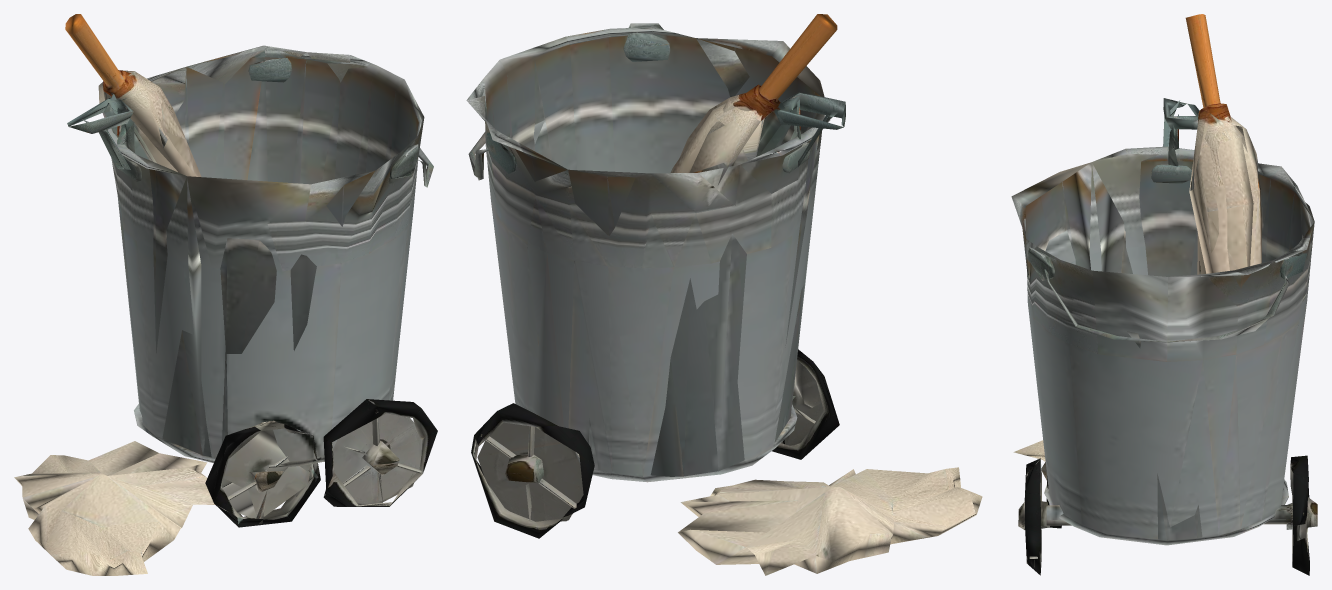
File: mop_bucket.glb
3 renders of one model, left to right at view 1: azimuth 30°, elevation 25°; view 2: azimuth 150°, elevation 25°; view 3: azimuth 270°, elevation 25°, orthographic. The views are drawn at different scales.
Size of the model in its own units: 0.8193 by 0.95 by 0.5695.
1 material, 1 textured.
